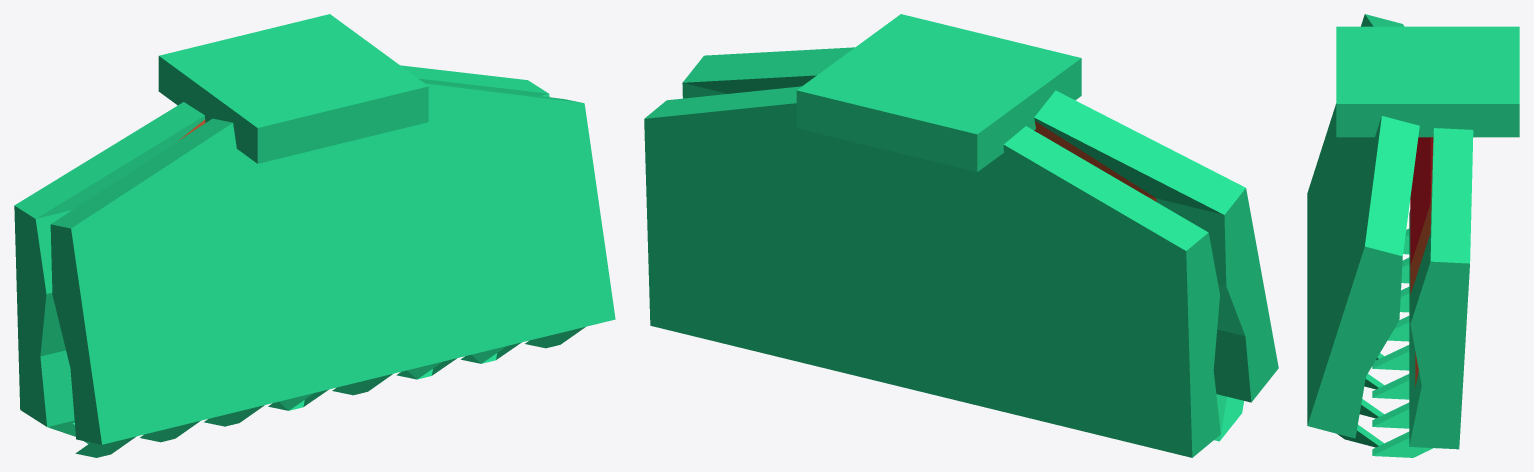
The model's file is VenusBearTrapModel_Close.fbx.
The picture shows the model from 3 angles, left to right: view 1: azimuth 30°, elevation 25°; view 2: azimuth 150°, elevation 25°; view 3: azimuth 270°, elevation 25°; orthographic projection. The views are drawn at different scales.
Parts seen in each view (by area): view 1: Exterior; view 2: Exterior, Middle; view 3: Exterior, Center.001, Middle.
Boxes of the visible parts, left/top/right/bottom form: Exterior: left=14, top=14, right=615, bottom=457; Exterior: left=644, top=14, right=1278, bottom=457; Middle: left=1035, top=121, right=1156, bottom=201; Exterior: left=1307, top=14, right=1519, bottom=457; Center.001: left=1410, top=137, right=1433, bottom=265; Middle: left=1410, top=134, right=1433, bottom=386.
Size of the model in its own units: 300 by 171 by 116.
